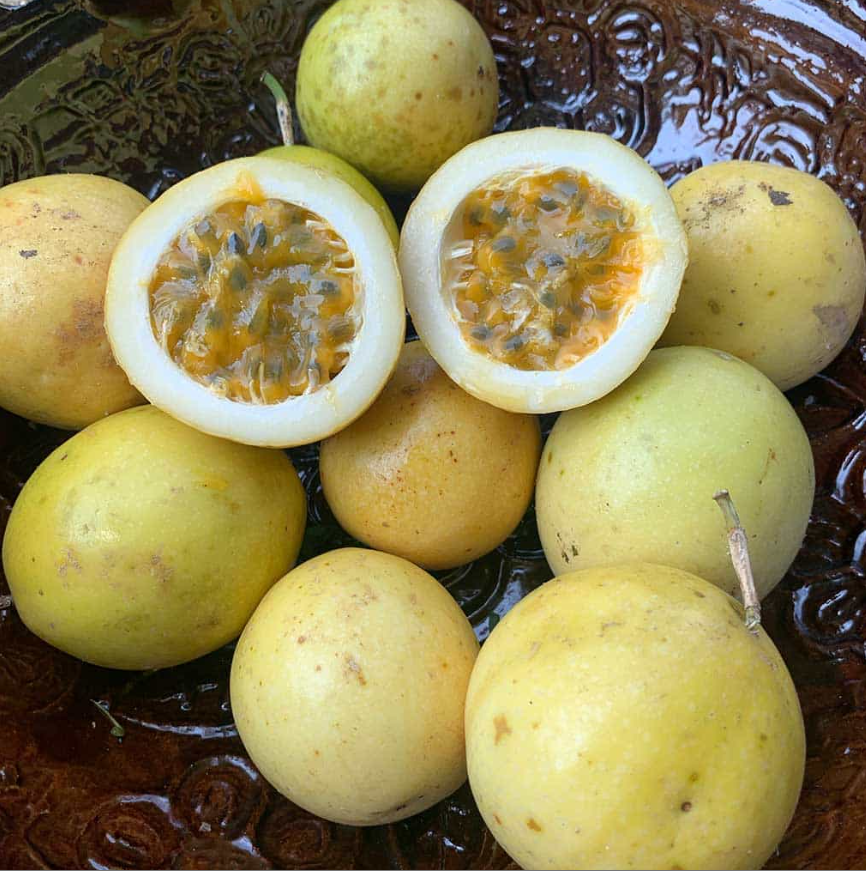maracuya: (453, 558, 834, 871), (528, 338, 829, 636), (8, 394, 316, 664), (225, 542, 496, 839), (315, 342, 553, 570), (639, 159, 863, 396), (1, 170, 181, 456), (287, 1, 507, 192)
